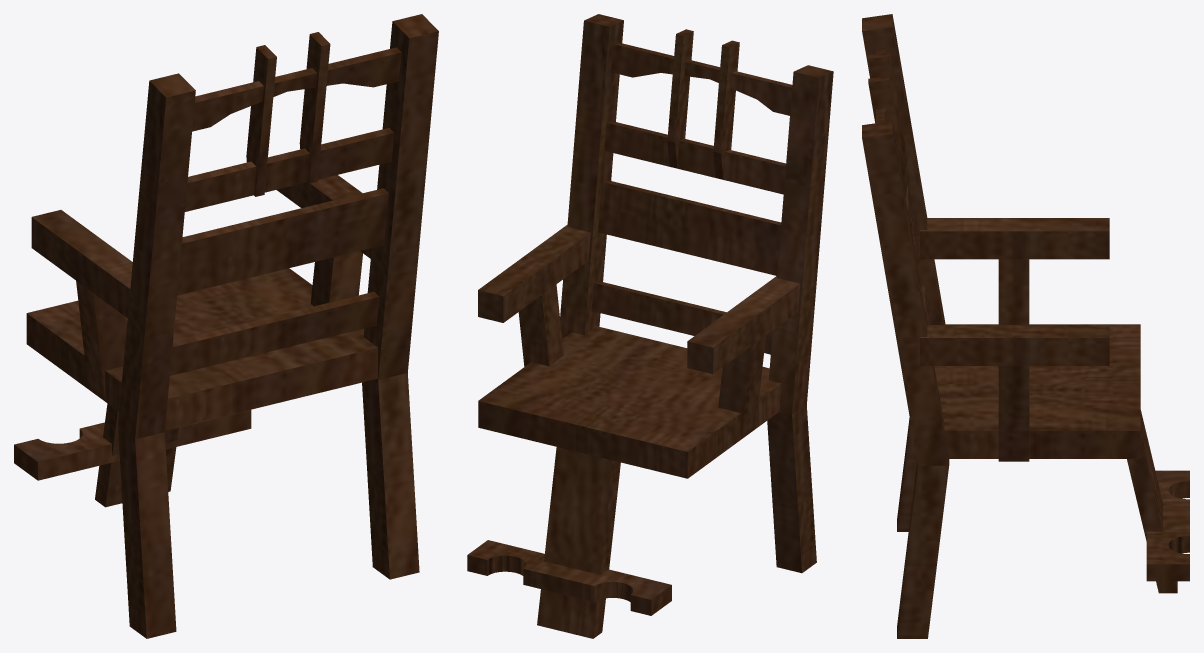
3 renders of one model, left to right at view 1: azimuth 30°, elevation 25°; view 2: azimuth 150°, elevation 25°; view 3: azimuth 270°, elevation 25°, orthographic. The views are drawn at different scales.
Visible parts, largest first — view 1: mesh5_mesh5-geometry, mesh26_mesh26-geometry, mesh25_mesh25-geometry, mesh21_mesh21-geometry, mesh2_mesh2-geometry, mesh1_mesh1-geometry, mesh10_mesh10-geometry, mesh19_mesh19-geometry, mesh23_mesh23-geometry, mesh17_mesh17-geometry, mesh7_mesh7-geometry, mesh9_mesh9-geometry (+3 smaller); view 2: mesh5_mesh5-geometry, mesh26_mesh26-geometry, mesh25_mesh25-geometry, mesh31_mesh31-geometry, mesh21_mesh21-geometry, mesh10_mesh10-geometry, mesh9_mesh9-geometry, mesh2_mesh2-geometry, mesh7_mesh7-geometry, mesh23_mesh23-geometry, mesh19_mesh19-geometry, mesh17_mesh17-geometry (+2 smaller); view 3: mesh5_mesh5-geometry, mesh25_mesh25-geometry, mesh9_mesh9-geometry, mesh10_mesh10-geometry, mesh1_mesh1-geometry, mesh26_mesh26-geometry, mesh7_mesh7-geometry, mesh31_mesh31-geometry, mesh15_mesh15-geometry, mesh2_mesh2-geometry, mesh13_mesh13-geometry.
Boxes of the visible parts, x1,y1,x2,y2 form: mesh5_mesh5-geometry: (26, 268, 377, 430); mesh26_mesh26-geometry: (118, 73, 195, 442); mesh25_mesh25-geometry: (363, 14, 438, 382); mesh21_mesh21-geometry: (177, 188, 388, 295); mesh2_mesh2-geometry: (118, 426, 176, 638); mesh1_mesh1-geometry: (362, 373, 419, 579); mesh10_mesh10-geometry: (31, 210, 132, 401); mesh19_mesh19-geometry: (170, 292, 379, 375); mesh23_mesh23-geometry: (185, 128, 394, 211); mesh17_mesh17-geometry: (192, 47, 401, 131); mesh7_mesh7-geometry: (14, 409, 251, 480); mesh9_mesh9-geometry: (276, 175, 371, 306); mesh5_mesh5-geometry: (478, 326, 781, 478); mesh26_mesh26-geometry: (768, 65, 833, 414); mesh25_mesh25-geometry: (560, 14, 623, 338); mesh31_mesh31-geometry: (537, 447, 620, 638); mesh21_mesh21-geometry: (598, 180, 781, 275); mesh10_mesh10-geometry: (687, 276, 800, 439); mesh9_mesh9-geometry: (478, 224, 590, 366); mesh2_mesh2-geometry: (767, 404, 816, 573); mesh7_mesh7-geometry: (467, 540, 671, 615); mesh23_mesh23-geometry: (604, 121, 785, 194); mesh19_mesh19-geometry: (591, 281, 772, 354); mesh17_mesh17-geometry: (611, 42, 792, 115); mesh5_mesh5-geometry: (934, 324, 1140, 458); mesh25_mesh25-geometry: (862, 121, 949, 468); mesh9_mesh9-geometry: (920, 325, 1109, 461); mesh10_mesh10-geometry: (920, 218, 1109, 324); mesh1_mesh1-geometry: (897, 462, 948, 638); mesh26_mesh26-geometry: (862, 14, 945, 324); mesh7_mesh7-geometry: (1146, 470, 1189, 581); mesh31_mesh31-geometry: (1127, 410, 1177, 593); mesh15_mesh15-geometry: (868, 75, 907, 196); mesh2_mesh2-geometry: (897, 418, 917, 531); mesh13_mesh13-geometry: (868, 52, 907, 170).
Size of the model in its own units: 0.4013 by 0.7926 by 0.459.
